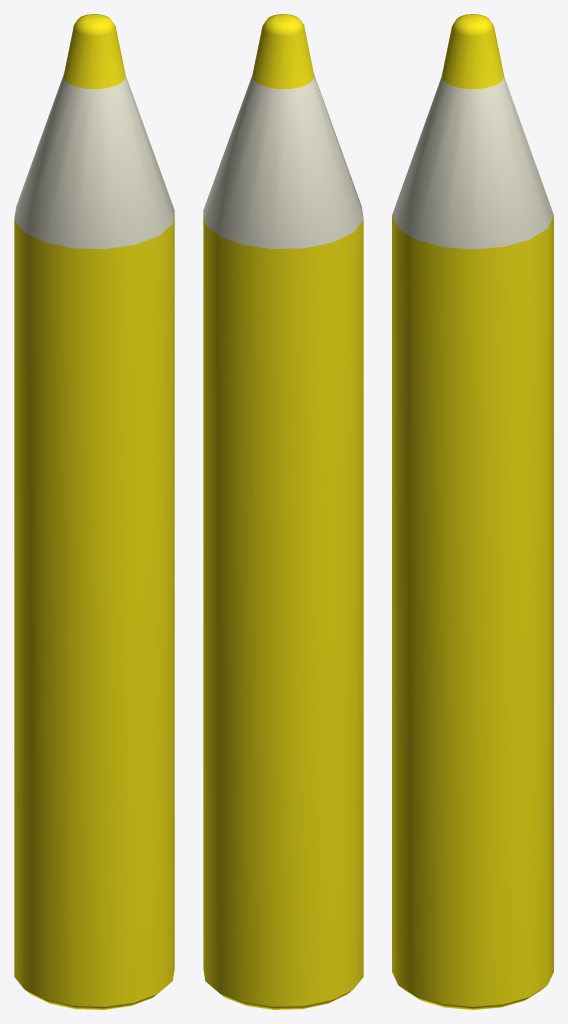
File: Public_8_Pencil_5.glb
The picture shows the model from 3 angles, left to right: view 1: azimuth 30°, elevation 25°; view 2: azimuth 150°, elevation 25°; view 3: azimuth 270°, elevation 25°; orthographic projection.
Visible parts, largest first — view 1: Public_8_Pencil_5; view 2: Public_8_Pencil_5; view 3: Public_8_Pencil_5.
Boxes of the visible parts, x1,y1,x2,y2 form: Public_8_Pencil_5: (14,14,174,1009); Public_8_Pencil_5: (203,14,363,1009); Public_8_Pencil_5: (392,14,553,1009).
Size of the model in its own units: 0.1578 by 1.03 by 0.1578.
1 material, 1 textured.
